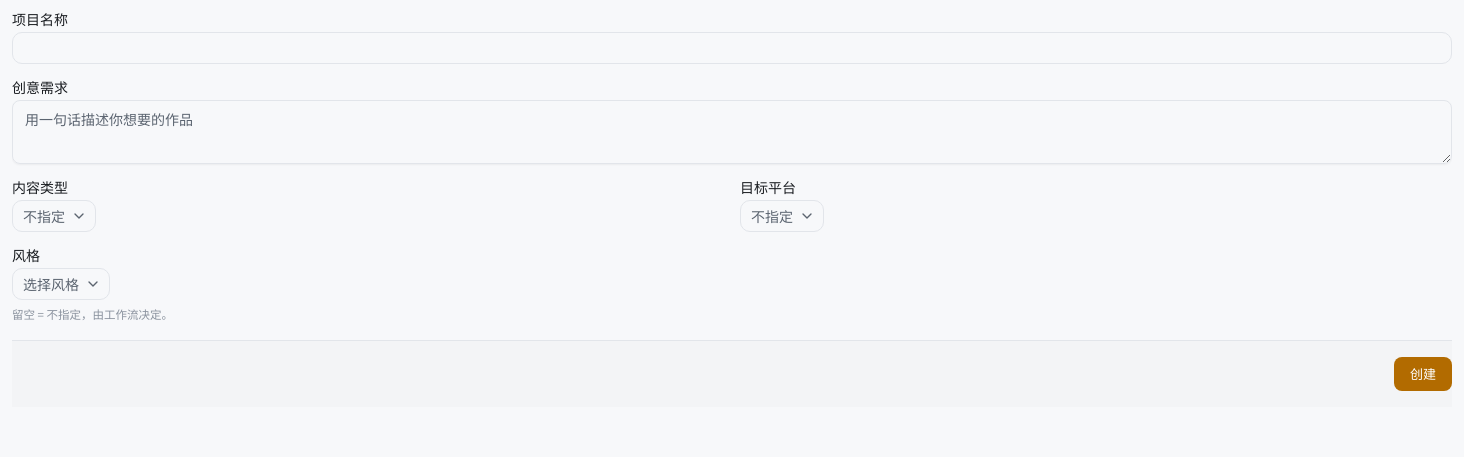
Test case: CreateProjectForm › blocks submit and shows validation errors when required fields are empty
The width and height of the screenshot is (1464, 457).
Click the button "创建". click: (1423, 374)
box: x1=1394 y1=357 x2=1452 y2=391
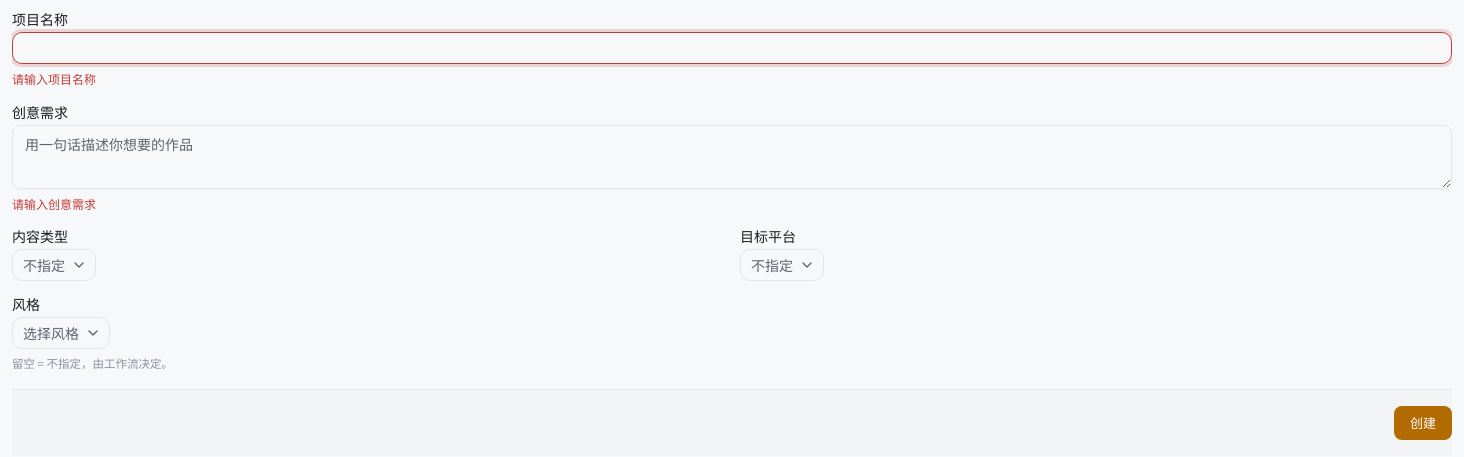
Expected: the text "请输入项目名称" is shown, x1=12 y1=70 x2=96 y2=87
